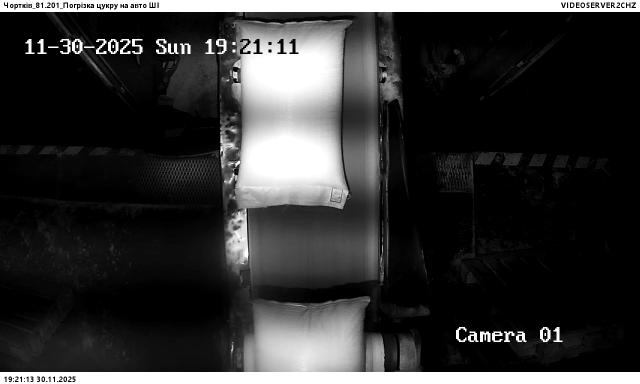bag: (235, 20, 349, 210), (247, 298, 368, 372)
